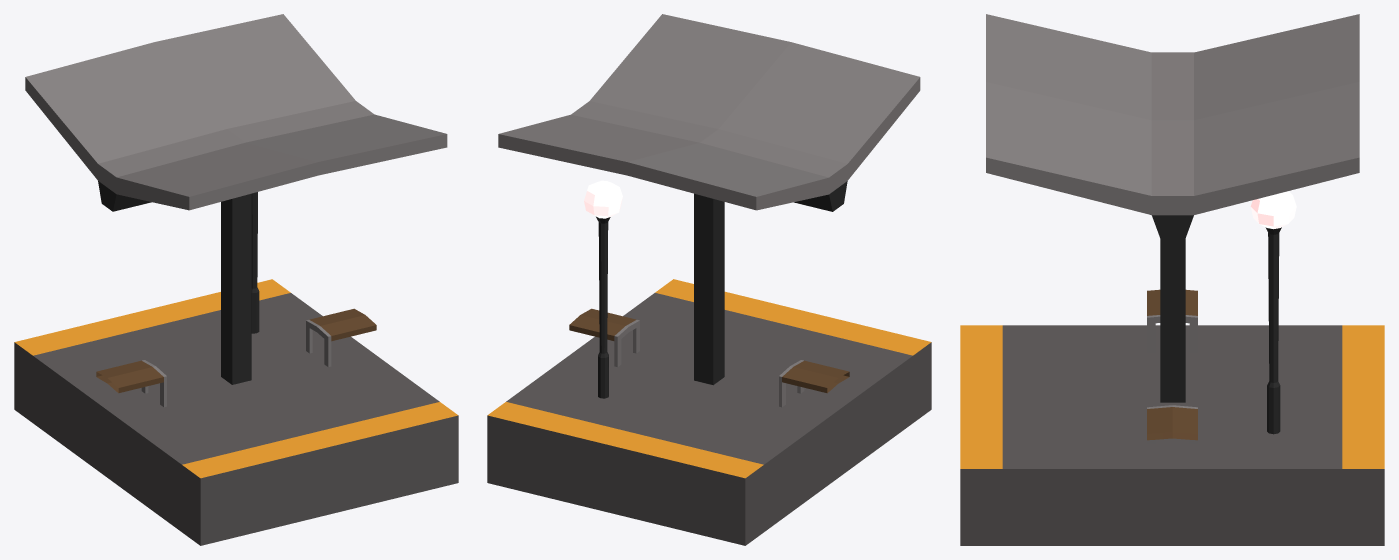
Rendered from buildings_train-station-platform-light-small.fbx.
3 views of the same model, side by side, from view 1: azimuth 30°, elevation 25°; view 2: azimuth 150°, elevation 25°; view 3: azimuth 270°, elevation 25° (orthographic). The views are drawn at different scales.
Visible parts, largest first — view 1: buildings_train_station_platform_light_small; view 2: buildings_train_station_platform_light_small; view 3: buildings_train_station_platform_light_small.
Part boxes in pixels (bbox=[...]): buildings_train_station_platform_light_small: bbox=[14, 14, 458, 545]; buildings_train_station_platform_light_small: bbox=[487, 14, 931, 545]; buildings_train_station_platform_light_small: bbox=[960, 14, 1384, 545].
Size of the model in its own units: 157 by 200 by 196.
